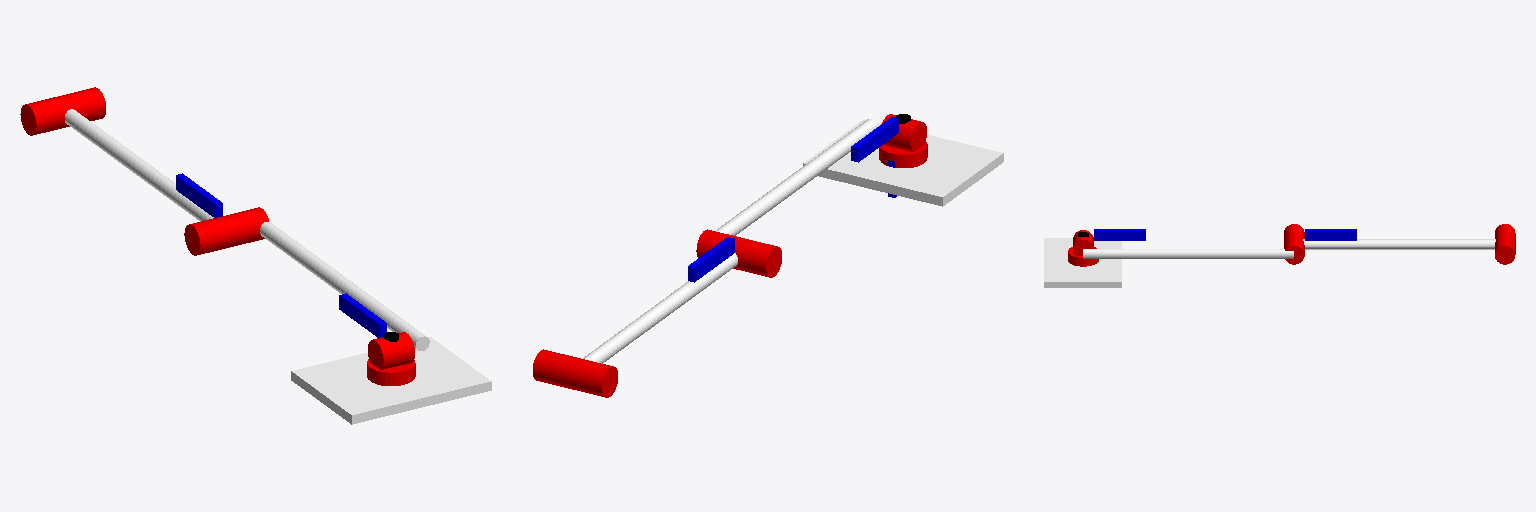
robot.urdf — retriever:
<?xml version="1.0"?>

<robot name="retriever">
  
  <!-- *************************************************** -->
  <!-- ******************** Kinematics ******************* -->
  <!-- *************************************************** -->
  <!-- Note the 'origin' tag in the joints defines the
       shift and reorientation before the continuous joint
       rotates around the 'axis'. -->

  <link name="world"/>

  <joint name="theta1" type="continuous">
    <parent link="world"/>
    <child  link="link1"/>
    <origin xyz="0 0 0.04" rpy="0 0 0"/>
    <axis   xyz="0 0 1"/>
  </joint>

  <link name="link1"/>

  <joint name="theta2" type="continuous">
    <parent link="link1"/>
    <child  link="link2"/>
    <origin xyz="0 0 0" rpy="0 0 0"/>
    <axis   xyz="1 0 0"/>
  </joint>

  <link name="link2"/>

  <joint name="theta3" type="continuous">
    <parent link="link2"/>
    <child  link="link3"/>
    <origin xyz="0 0.4064 0" rpy="0 0 0"/>
    <axis   xyz="-1 0 0"/>
  </joint>

  <link name="link3"/>

  <joint name="shifttotip" type="fixed">
    <parent link="link3"/>
    <child  link="tip"/>
    <origin xyz="0 0.2 0" rpy="0 0 0"/>
  </joint>

  <link name="tip"/>


  <!-- *************************************************** -->
  <!-- ********************* Graphics ******************** -->
  <!-- *************************************************** -->
  <!-- The following is purely to make this look roboticy. -->
  <!-- The 'origin' tag in the link/visual defines the
       center of the object (box, cylinder, sphere, mesh)
       but does not affect the joint chain kinematics. -->

  <!-- *************** Materials / Colors **************** -->

  <material name="white">    <color rgba="1.00 1.00 1.00 1"/>  </material>
  <material name="gray">     <color rgba="0.60 0.60 0.60 1"/>  </material>
  <material name="table">    <color rgba="0.85 0.77 0.77 1"/>  </material>
  <material name="black">    <color rgba="0.00 0.00 0.00 1"/>  </material>

  <material name="red">      <color rgba="1.00 0.00 0.00 1"/>  </material>
  <material name="green">    <color rgba="0.00 1.00 0.00 1"/>  </material>
  <material name="blue">     <color rgba="0.00 0.00 1.00 1"/>  </material>

  <material name="cyan">     <color rgba="0.00 1.00 1.00 1"/>  </material>
  <material name="magenta">  <color rgba="1.00 0.00 1.00 1"/>  </material>
  <material name="yellow">   <color rgba="1.00 1.00 0.00 1"/>  </material>

  <material name="orange">   <color rgba="1.00 0.65 0.00 1"/>  </material>


  <!-- *** Table - attached to world *** -->

  <joint name="attach-table" type="fixed">
    <parent link="world"/>
    <child  link="table"/>
  </joint>

  <link name="table">
    <visual>
      <origin xyz="0 0 0" rpy="0 0 0"/>
      <geometry>
	<box size="0.2 0.15 0.0127"/>
      </geometry>
      <material name="white"/>
    </visual>
  </link>

  <!-- *** Yaw Motor - attached to world *** -->

  <joint name="attach-yawmotor" type="fixed">
    <parent link="world"/>
    <child  link="yawmotor"/>
  </joint>

  <link name="yawmotor">
    <visual>
      <origin xyz="0 0 0.01" rpy="0 0 0"/>
      <geometry>
	<cylinder length="0.03" radius="0.03"/>
      </geometry>
      <material name="red"/>
    </visual>
  </link>

  <!-- *** Link 1 Bar - attached to link1 (yaw joint output) *** -->

  <joint name="attach-link1bar" type="fixed">
    <parent link="link1"/>
    <child  link="link1bar"/>
  </joint>

  <link name="link1bar">
    <visual>
      <origin xyz="0 0 0" rpy="0 0 0"/>
      <geometry>
	<cylinder length="0.0445" radius="0.01"/>
      </geometry>
      <material name="black"/>
    </visual>
  </link>

  <!-- *** Link 1 Sail - attached to link1 (yaw joint output) *** -->

  <joint name="attach-link1sail" type="fixed">
    <parent link="link1"/>
    <child  link="link1sail"/>
  </joint>

  <link name="link1sail">
    <visual>
      <origin xyz="0 0.02 -0.05" rpy="0 0 0"/>
      <geometry>
      	<box size="0.01 0.02 0.05"/>
      </geometry>
      <material name="blue"/>
    </visual>
  </link>

  <!-- *** Pitch 1 Motor - attached to link1 (yaw joint output) *** -->

  <joint name="attach-pitch1motor" type="fixed">
    <parent link="link1"/>
    <child  link="pitch1motor"/>
  </joint>

  <link name="pitch1motor">
    <visual>
      <origin xyz="0 0 0" rpy="0 1.5708 0"/>
      <geometry>
	<cylinder length="0.045" radius="0.02"/>
      </geometry>
      <material name="red"/>
    </visual>
  </link>

  <!-- *** Link 2 Bar - attached to link2 (pitch1 joint output) *** -->

  <joint name="attach-link2bar" type="fixed">
    <parent link="link2"/>
    <child  link="link2bar"/>
  </joint>

  <link name="link2bar">
    <visual>
      <origin xyz="0.045 0.2032 0" rpy="-1.5708 0 0"/>
      <geometry>
	<cylinder length="0.4064" radius="0.01"/>
      </geometry>
      <material name="white"/>
    </visual>
  </link>

  <!-- *** Link 2 Sail - attached to link2 (pitch1 joint output) *** -->

  <joint name="attach-link2sail" type="fixed">
    <parent link="link2"/>
    <child  link="link2sail"/>
  </joint>

  <link name="link2sail">
    <visual>
      <origin xyz="0 0.07 0.02" rpy="0 0 0"/>
      <geometry>
      	<box size="0.01 0.1 0.02"/>
      </geometry>
      <material name="blue"/>
    </visual>
  </link>

  <!-- *** Pitch 2 Motor - attached to link1 (yaw joint output) *** -->

  <joint name="attach-pitch2motor" type="fixed">
    <parent link="link2"/>
    <child  link="pitch2motor"/>
  </joint>

  <link name="pitch2motor">
    <visual>
      <origin xyz="0 0.4064 0" rpy="0 1.5708 0"/>
      <geometry>
	<cylinder length="0.1" radius="0.02"/>
      </geometry>
      <material name="red"/>
    </visual>
  </link>

  <!-- *** Link 3 Bar - attached to link3 (pitch2 joint output) *** -->

  <joint name="attach-link3bar" type="fixed">
    <parent link="link3"/>
    <child  link="link3bar"/>
  </joint>

  <link name="link3bar">
    <visual>
      <origin xyz="0 0.2032 0" rpy="-1.5708 0 0"/>
      <geometry>
	<cylinder length="0.4064" radius="0.01"/>
      </geometry>
      <material name="white"/>
    </visual>
  </link>

  <!-- *** Link 3 Sail - attached to link3 (pitch2 joint output) *** -->

  <joint name="attach-link3sail" type="fixed">
    <parent link="link3"/>
    <child  link="link3sail"/>
  </joint>

  <link name="link3sail">
    <visual>
      <origin xyz="0 0.07 0.02" rpy="0 0 0"/>
      <geometry>
      	<box size="0.01 0.1 0.02"/>
      </geometry>
      <material name="blue"/>
    </visual>
  </link>

  <!-- *** Tip Ball - attached to tip *** -->

  <joint name="attach-pitch3motor" type="fixed">
    <parent link="link3"/>
    <child  link="pitch3motor"/>
  </joint>

  <link name="pitch3motor">
    <visual>
      <origin xyz="0 0.4064 0" rpy="0 1.5708 0"/>
      <geometry>
	<cylinder length="0.1" radius="0.02"/>
      </geometry>
      <material name="red"/>
    </visual>
  </link>

</robot>

--- What the picture shows (computed from the rendered views, not written in the file) ---
Views: 3 orthographic renders of the robot side by side, from view 1: azimuth 30°, elevation 25°; view 2: azimuth 150°, elevation 25°; view 3: azimuth 270°, elevation 25°.
Robot: retriever — 16 links, 15 joints (3 continuous, 12 fixed); root link world; default pose: all joints at 0.
Links seen in each view (by area): view 1: table, link2bar, link3bar, pitch2motor, pitch3motor, pitch1motor, link2sail, link3sail, yawmotor; view 2: table, link2bar, pitch3motor, link3bar, pitch2motor, link2sail, link3sail, pitch1motor, yawmotor; view 3: table, link2bar, link3bar, pitch3motor, pitch2motor, link2sail, link3sail.
Link boxes in pixels (bbox=[...]): table: bbox=[291, 337, 491, 424]; link2bar: bbox=[260, 222, 429, 350]; link3bar: bbox=[65, 109, 213, 221]; pitch2motor: bbox=[184, 207, 268, 255]; pitch3motor: bbox=[20, 87, 105, 135]; pitch1motor: bbox=[368, 332, 414, 369]; link2sail: bbox=[339, 293, 386, 337]; link3sail: bbox=[176, 173, 222, 217]; yawmotor: bbox=[367, 359, 415, 385]; table: bbox=[803, 119, 1003, 206]; link2bar: bbox=[716, 119, 878, 235]; pitch3motor: bbox=[533, 349, 617, 397]; link3bar: bbox=[583, 253, 737, 363]; pitch2motor: bbox=[696, 229, 781, 277]; link2sail: bbox=[851, 117, 898, 162]; link3sail: bbox=[688, 237, 734, 282]; pitch1motor: bbox=[882, 114, 926, 151]; yawmotor: bbox=[879, 142, 927, 167]; table: bbox=[1044, 238, 1121, 287]; link2bar: bbox=[1083, 249, 1293, 258]; link3bar: bbox=[1303, 239, 1495, 249]; pitch3motor: bbox=[1495, 224, 1515, 264]; pitch2motor: bbox=[1284, 224, 1304, 264]; link2sail: bbox=[1094, 229, 1145, 240]; link3sail: bbox=[1305, 229, 1356, 240].
Size in the robot's own frame: 0.2 by 0.9078 by 0.105 metres.
Geometry: primitives only (box / cylinder / sphere), no mesh files.